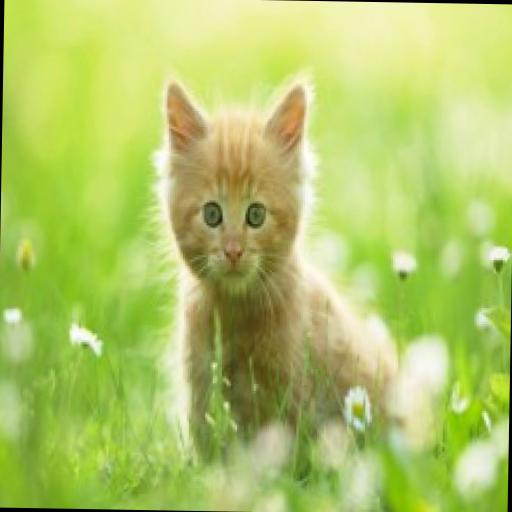cat: (140, 61, 404, 456)
